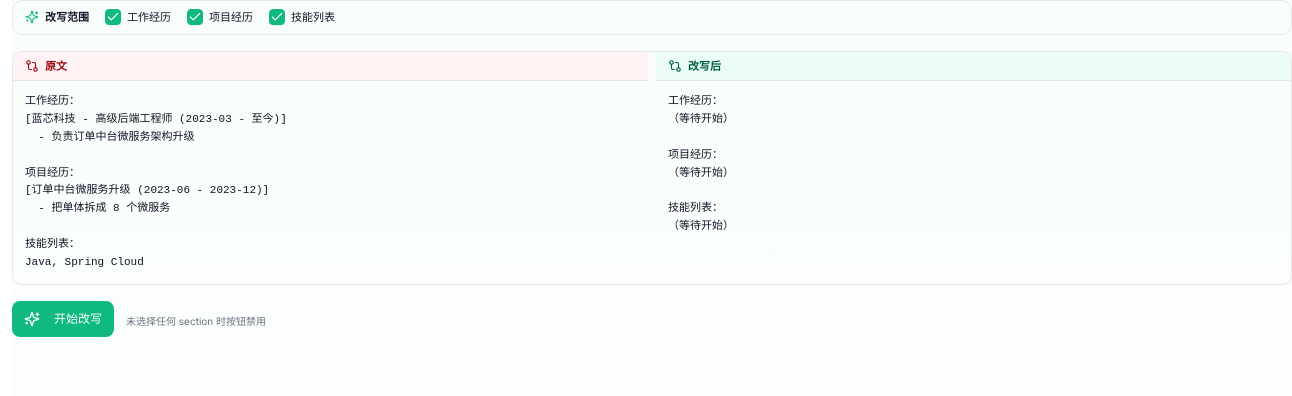
Scenario: StarRewritePanel › surfaces a network error as a UI error
Click the button "开始改写". click: (63, 319)
box: x1=12 y1=301 x2=114 y2=337
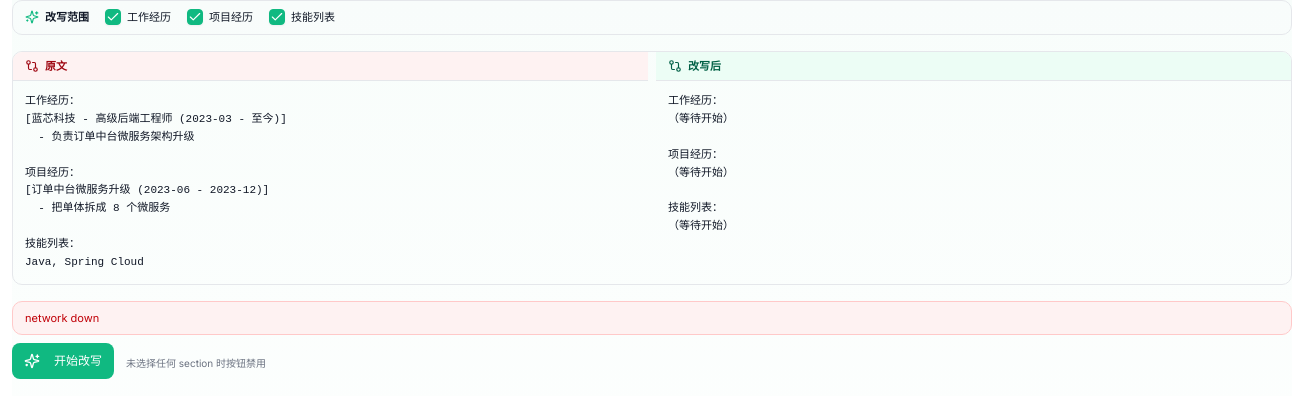
expect the message reads "network down": met, box x1=25 y1=311 x2=99 y2=325
